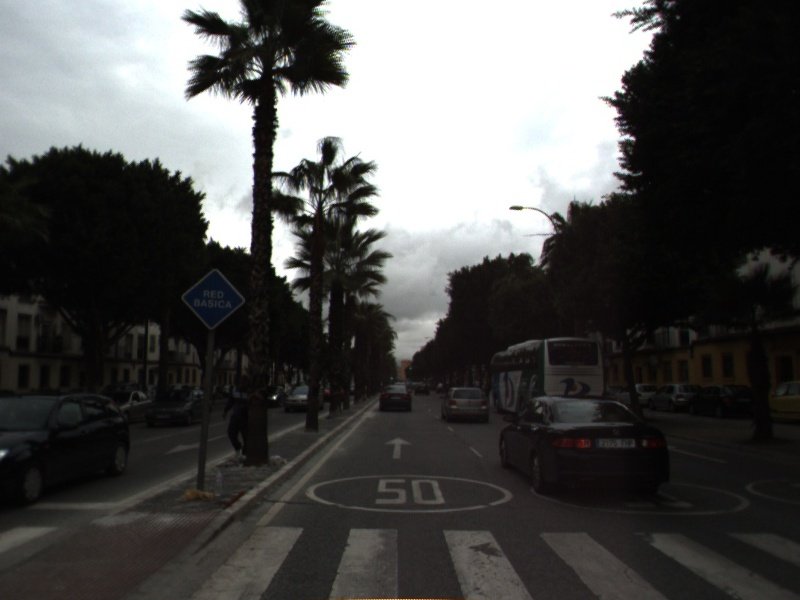STRAIGHT: (382, 435, 415, 461)
